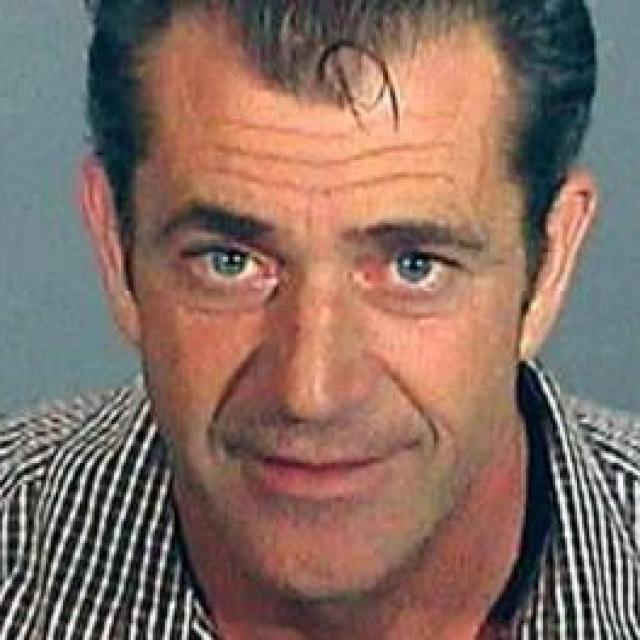Normal: (128, 5, 525, 593)
